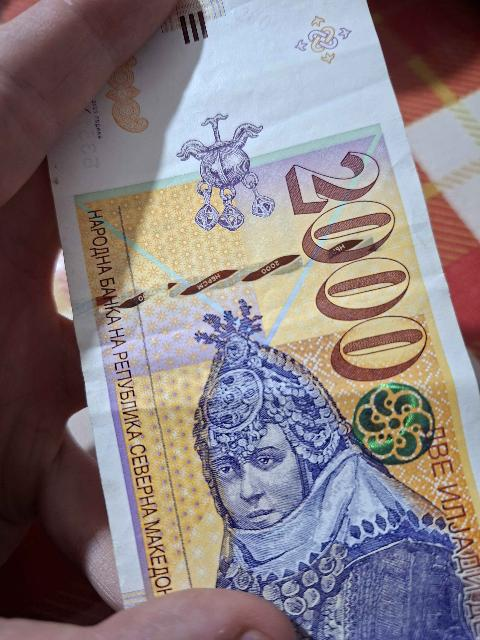note: (54, 0, 479, 639)
